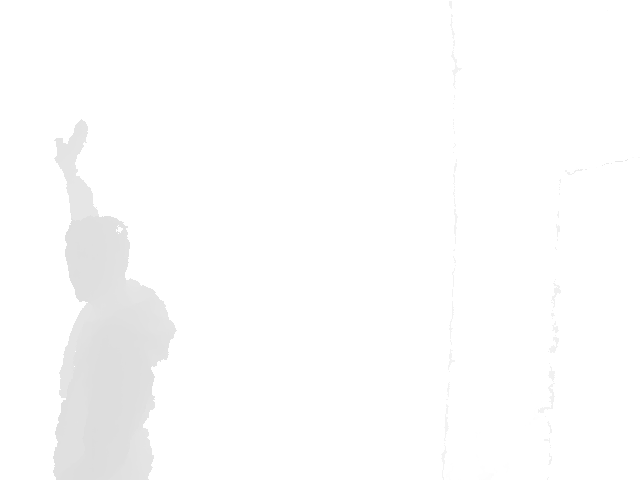hand: (52, 119, 90, 167)
head: (63, 216, 130, 304)
person: (52, 119, 177, 479)
